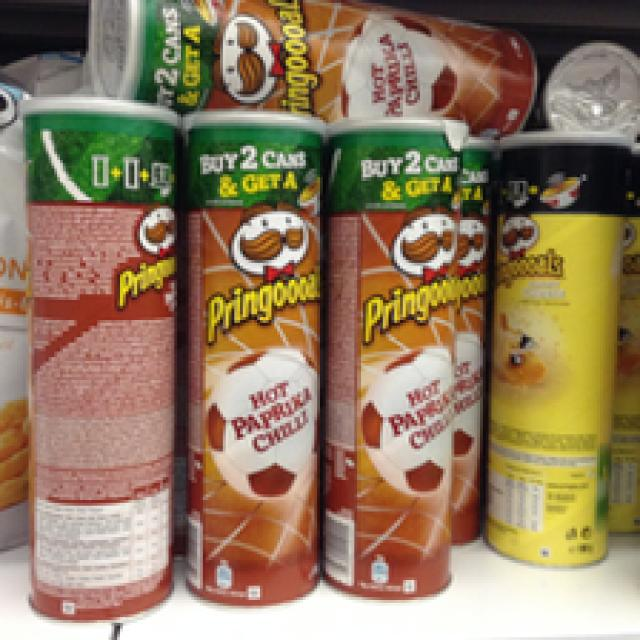groceries: (17, 91, 183, 623), (174, 106, 329, 608), (483, 132, 634, 572), (329, 109, 460, 600), (86, 0, 537, 129)
